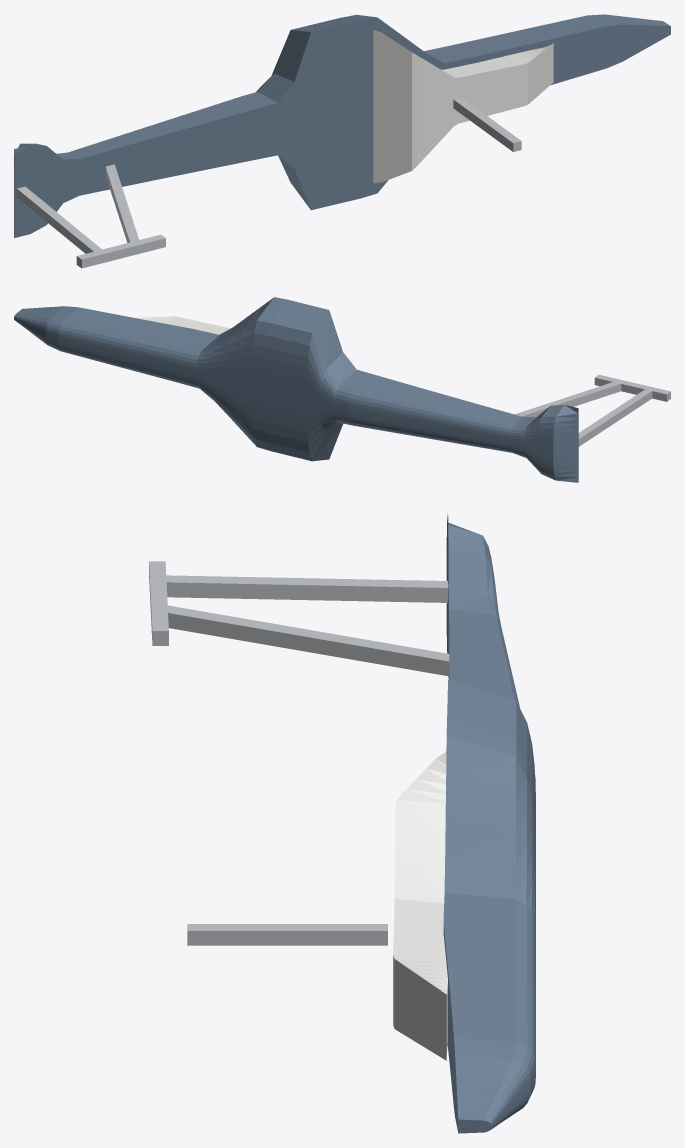
The model's file is loft-wing-in-ground-slender.glb.
3 renders of one model, top to bottom at view 1: azimuth 30°, elevation 25°; view 2: azimuth 150°, elevation 25°; view 3: azimuth 270°, elevation 25°, orthographic. The views are drawn at different scales.
Visible parts, largest first — view 1: loft-wing-in-ground-slender; view 2: loft-wing-in-ground-slender; view 3: loft-wing-in-ground-slender.
Part boxes in pixels (x1,y1,x2,y2): loft-wing-in-ground-slender: (14, 14, 670, 268); loft-wing-in-ground-slender: (14, 297, 670, 482); loft-wing-in-ground-slender: (149, 514, 535, 1133).
Size of the model in its own units: 1.92 by 0.48 by 0.5627.
